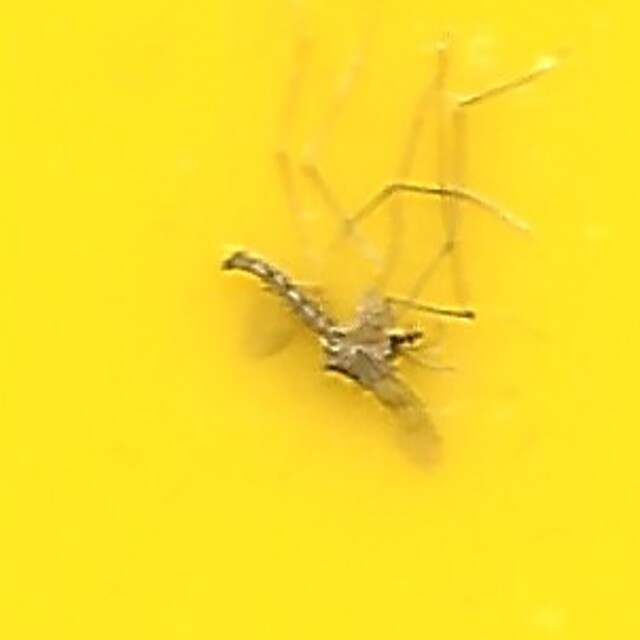Nematocera: (212, 237, 428, 403)
